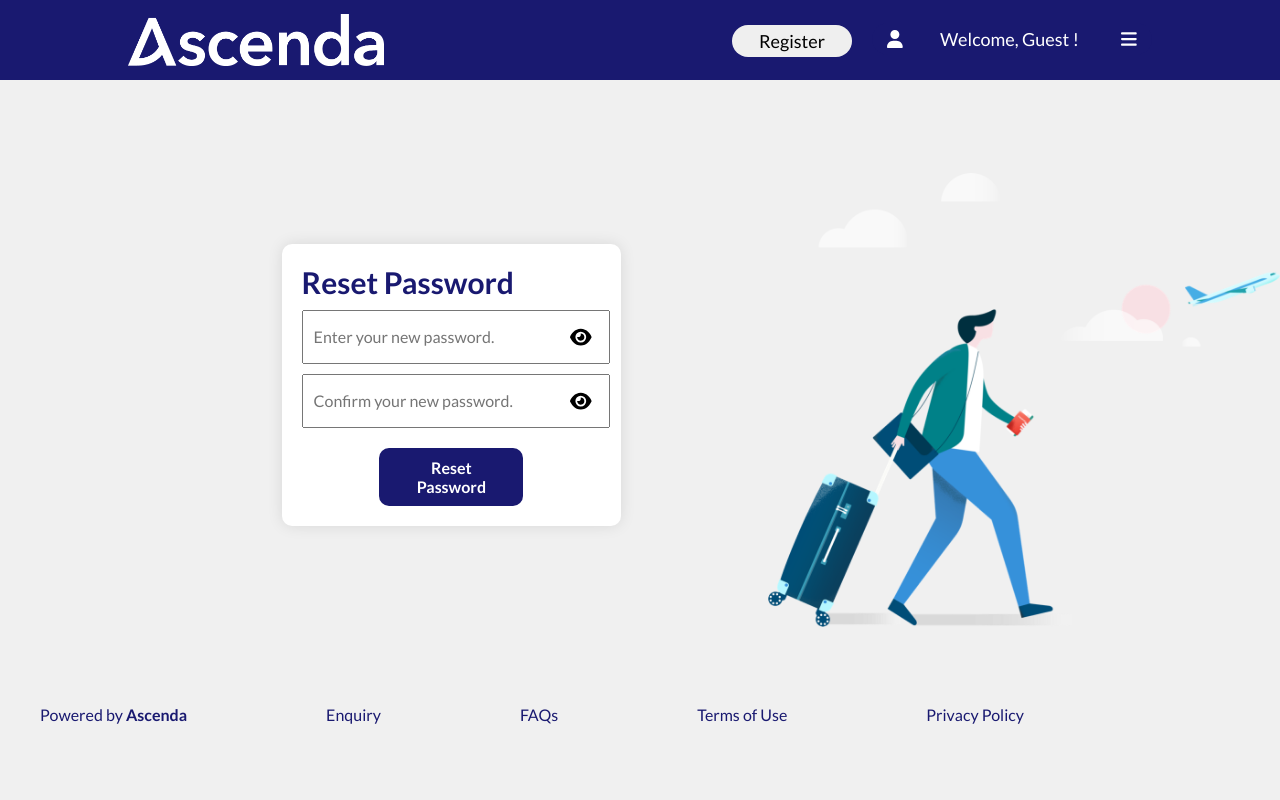
Scenario: Reset Password Page Test › Shows error message when passwords do not match
In the password field with placeholder "Enter your new password.": (457, 337) top-left (302, 310), bottom-right (611, 364), type "Password@123"
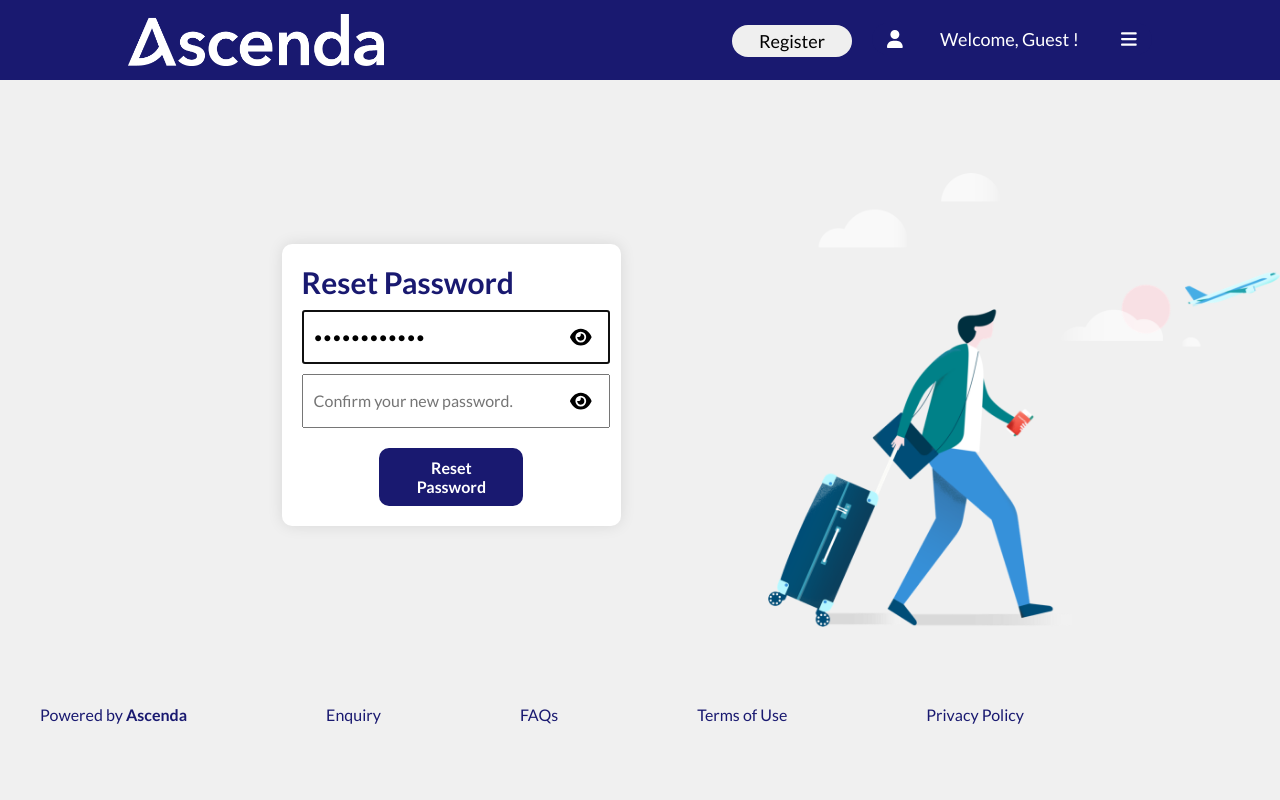
In the password field with placeholder "Confirm your new password.": (457, 401) top-left (302, 374), bottom-right (611, 428), type "DifferentPassword@123"
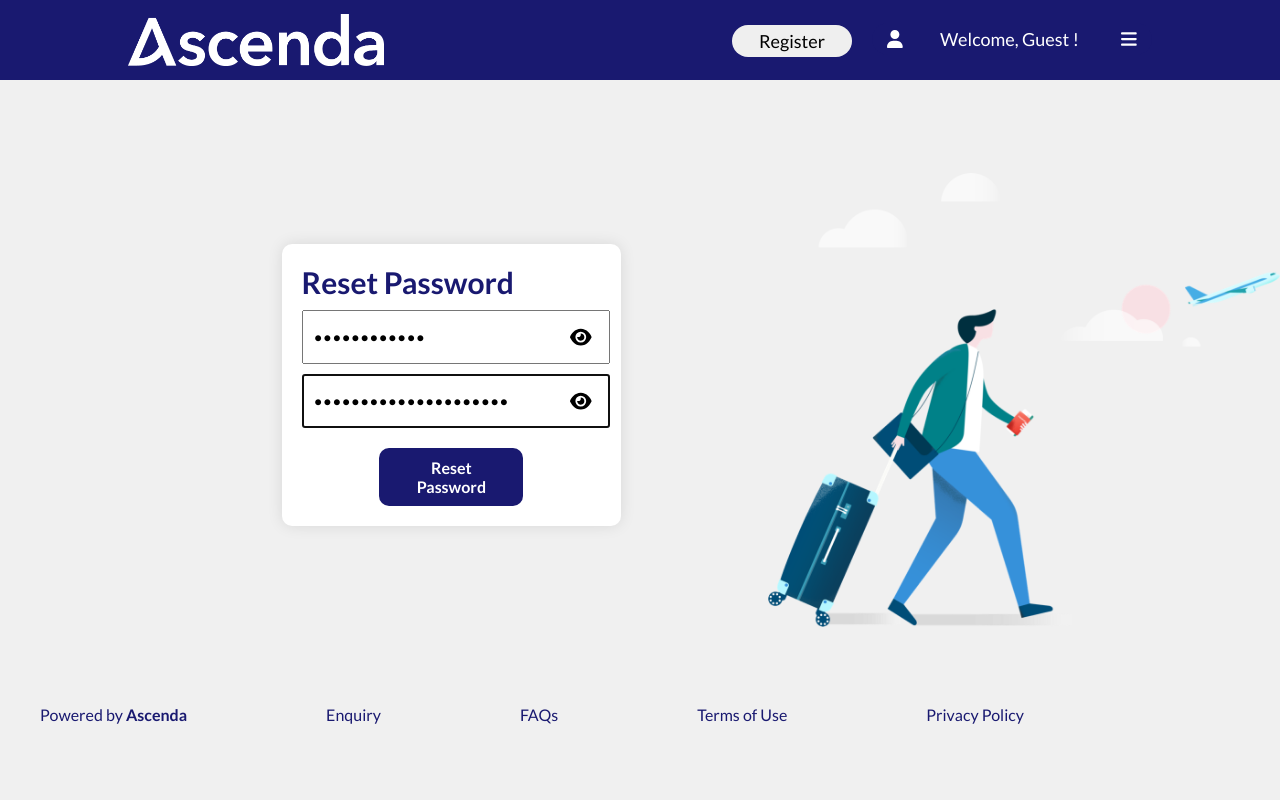
Click the button with test id "resetPwdButton": (452, 477) top-left (380, 448), bottom-right (524, 506)
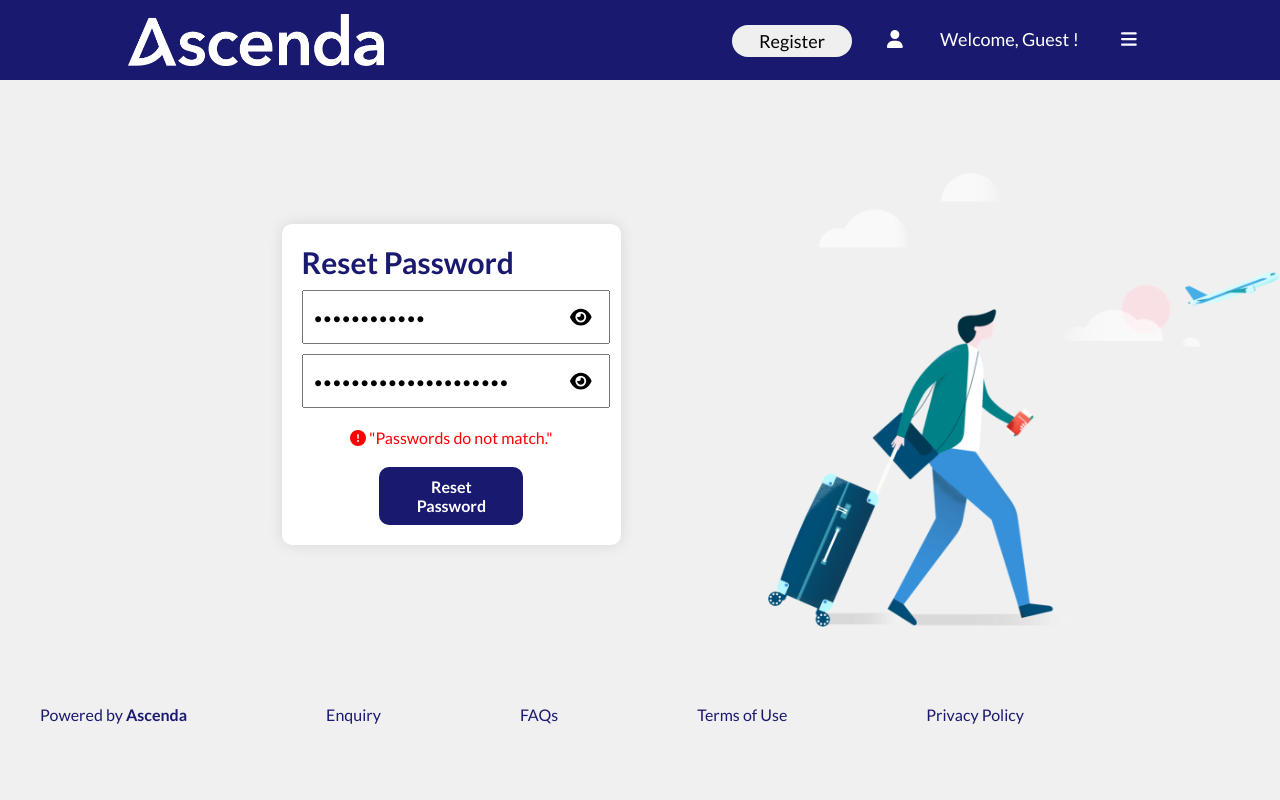
Now the element with class "error" shows "Passwords do not match.", box top-left (350, 428), bottom-right (553, 447)
